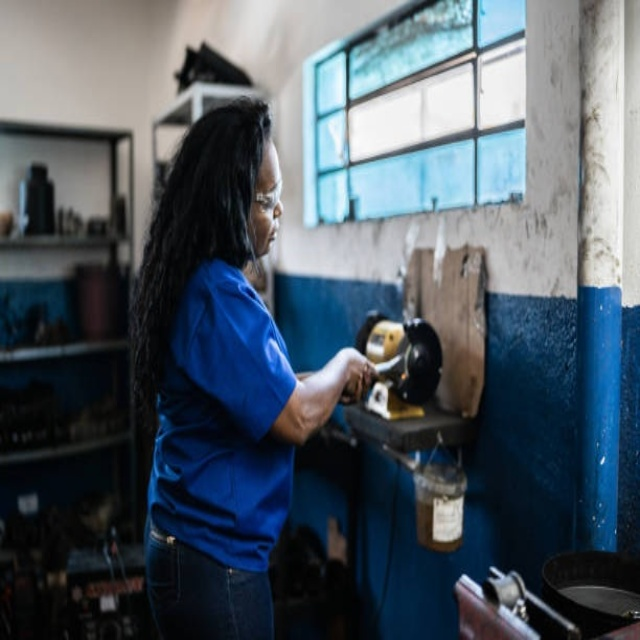Gafas: (255, 176, 283, 213)
Sin_guantes: (336, 349, 382, 405)
Sin_mascara: (257, 218, 282, 259)
